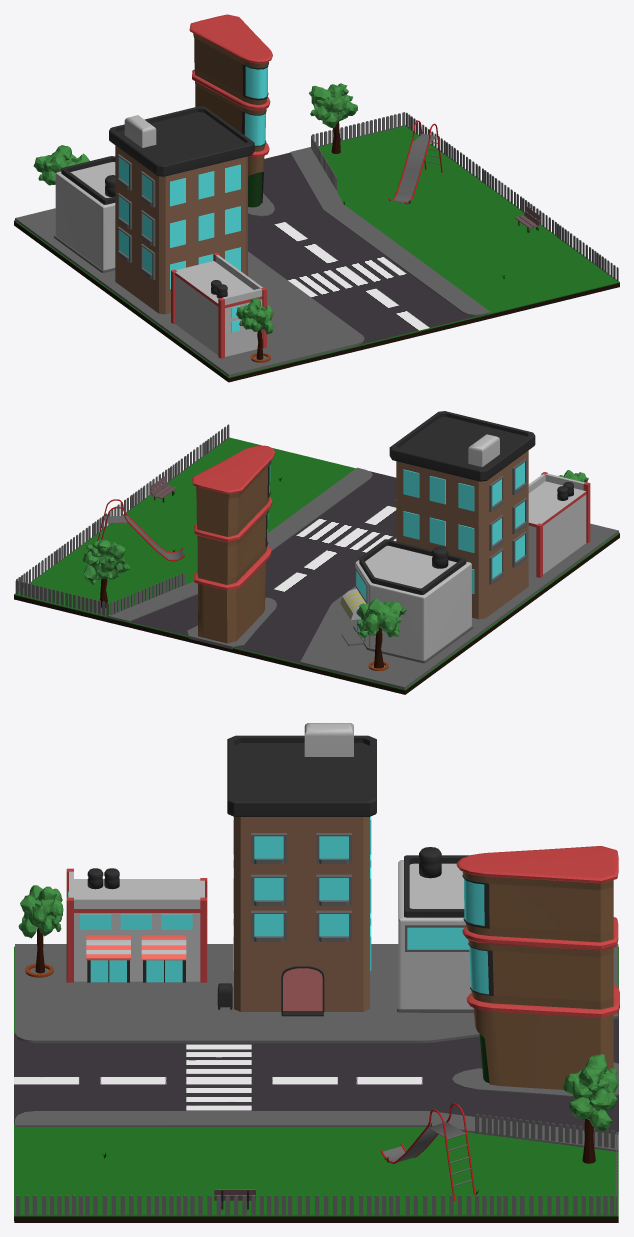
File: obj_city.fbx
3 renders of one model, top to bottom at view 1: azimuth 30°, elevation 25°; view 2: azimuth 150°, elevation 25°; view 3: azimuth 270°, elevation 25°, orthographic. The views are drawn at different scales.
Visible parts, largest first — view 1: node_id52, node_id38, node_id93, node_id64, node_id91, node_id69, node_id80, node_id60, node_id97, node_id132, node_id43, node_id41 (+11 smaller); view 2: node_id52, node_id38, node_id43, node_id93, node_id80, node_id64, node_id91, node_id132, node_id69, node_id97, node_id41, node_id60 (+11 smaller); view 3: node_id52, node_id38, node_id64, node_id43, node_id93, node_id91, node_id132, node_id60, node_id69, node_id41, node_id80, node_id97 (+18 smaller).
Part boxes in pixels (x1,y1,x2,y2): node_id52: [14, 125, 619, 378]; node_id38: [248, 152, 487, 345]; node_id93: [115, 145, 247, 314]; node_id64: [15, 208, 364, 376]; node_id91: [109, 106, 254, 176]; node_id69: [175, 255, 262, 356]; node_id80: [55, 162, 115, 270]; node_id60: [290, 147, 490, 315]; node_id97: [119, 158, 240, 289]; node_id132: [311, 112, 618, 281]; node_id43: [193, 33, 268, 179]; node_id41: [189, 14, 272, 157]; node_id52: [14, 437, 619, 690]; node_id38: [108, 471, 396, 670]; node_id43: [195, 461, 270, 643]; node_id93: [396, 450, 528, 619]; node_id80: [340, 545, 471, 660]; node_id64: [300, 523, 618, 689]; node_id91: [389, 411, 535, 481]; node_id132: [15, 424, 229, 616]; node_id69: [528, 473, 586, 575]; node_id97: [403, 462, 524, 593]; node_id41: [192, 445, 274, 590]; node_id60: [107, 467, 372, 622]; node_id52: [14, 946, 618, 1216]; node_id38: [14, 1011, 618, 1150]; node_id64: [15, 944, 618, 1043]; node_id43: [462, 871, 613, 1089]; node_id93: [234, 817, 369, 1011]; node_id91: [227, 735, 376, 1016]; node_id132: [16, 1114, 616, 1215]; node_id60: [15, 1111, 618, 1151]; node_id69: [69, 871, 204, 981]; node_id41: [456, 846, 619, 1017]; node_id80: [398, 860, 473, 1008]; node_id97: [233, 816, 371, 970].
Size of the model in its own units: 1.42 by 0.6026 by 1.36.
44 materials, 1 textured.
